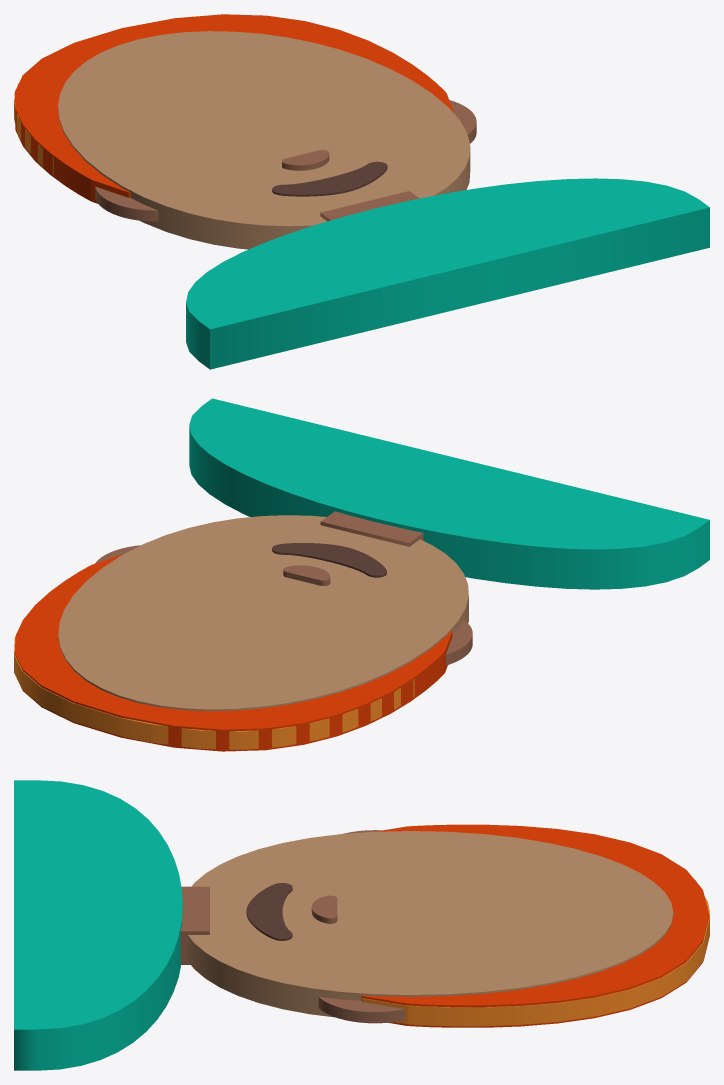
Rendered from emoji_u1f468_1f3fd_200d_1f9b0.glb.
The picture shows the model from 3 angles, top to bottom: view 1: azimuth 30°, elevation 25°; view 2: azimuth 150°, elevation 25°; view 3: azimuth 270°, elevation 25°; orthographic projection. The views are drawn at different scales.
Visible parts, largest first — view 1: emoji_u1f468_1f3fd_200d_1f9b0; view 2: emoji_u1f468_1f3fd_200d_1f9b0; view 3: emoji_u1f468_1f3fd_200d_1f9b0.
Boxes of the visible parts, x1,y1,x2,y2 form: emoji_u1f468_1f3fd_200d_1f9b0: (14,14,709,369); emoji_u1f468_1f3fd_200d_1f9b0: (14,398,709,751); emoji_u1f468_1f3fd_200d_1f9b0: (14,780,709,1070).
Size of the model in its own units: 0.0286 by 0.0022 by 0.0337.
